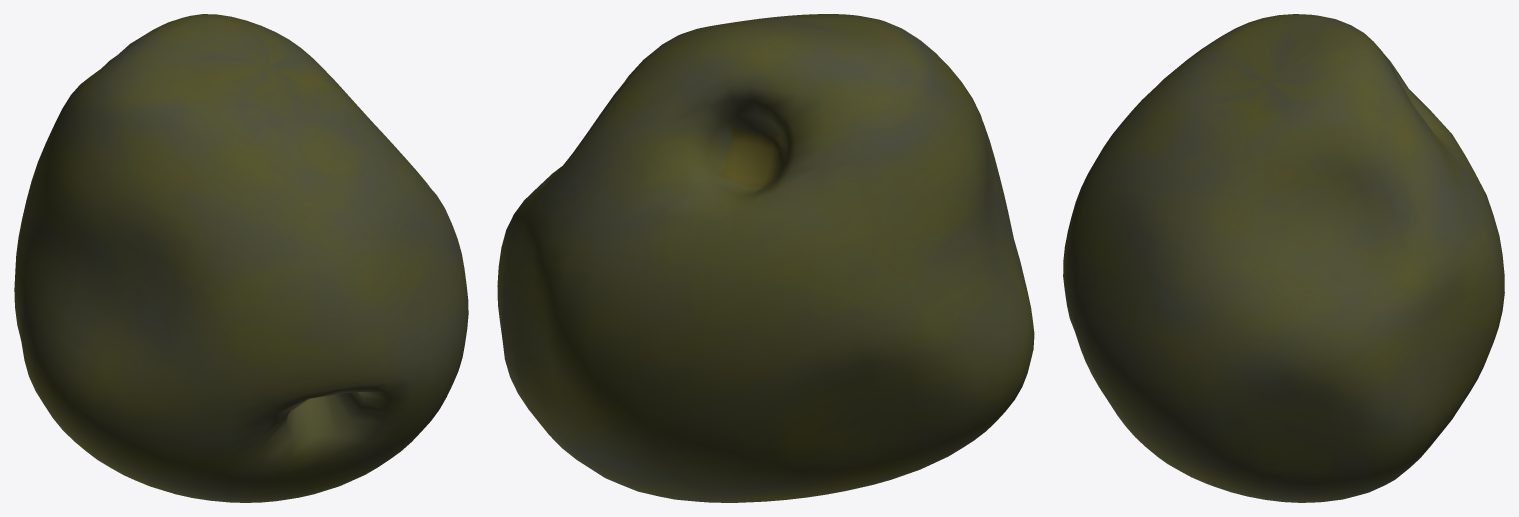
Rendered from asteroid1.fbx.
3 renders of one model, left to right at view 1: azimuth 30°, elevation 25°; view 2: azimuth 150°, elevation 25°; view 3: azimuth 270°, elevation 25°, orthographic. The views are drawn at different scales.
Parts seen in each view (by area): view 1: Asteroid1; view 2: Asteroid1; view 3: Asteroid1.
Part boxes in pixels (box(x1,y1,x2,y2)): Asteroid1: box(14, 14, 468, 502); Asteroid1: box(497, 14, 1034, 502); Asteroid1: box(1063, 14, 1504, 502).
Size of the model in its own units: 31.36 by 31.83 by 30.76.
